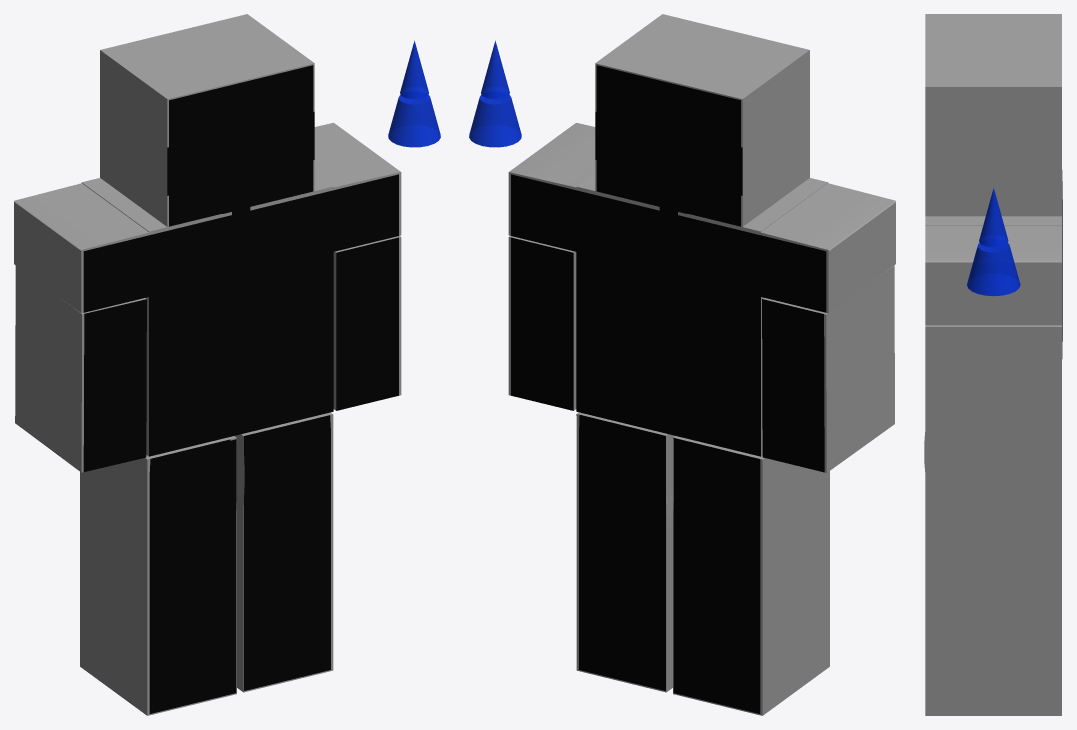
Rendered from Personaje.fbx.
3 renders of one model, left to right at view 1: azimuth 30°, elevation 25°; view 2: azimuth 150°, elevation 25°; view 3: azimuth 270°, elevation 25°, orthographic.
Visible parts, largest first — view 1: Torzo, Pierna_Izq, Pierna_Der, Brazo_Izq, Brazo_Der, Conito; view 2: Torzo, Pierna_Izq, Pierna_Der, Brazo_Izq, Brazo_Der, Conito; view 3: Torzo, Pierna_Der, Brazo_Der, Conito.
Part boxes in pixels (<box>): Torzo: <box>14,14,401,456</box>; Pierna_Izq: <box>80,436,236,715</box>; Pierna_Der: <box>235,412,333,692</box>; Brazo_Izq: <box>15,265,146,472</box>; Brazo_Der: <box>333,236,401,410</box>; Conito: <box>388,40,440,147</box>; Torzo: <box>508,14,895,456</box>; Pierna_Izq: <box>673,436,829,715</box>; Pierna_Der: <box>576,412,674,692</box>; Brazo_Izq: <box>762,265,894,472</box>; Brazo_Der: <box>508,236,576,410</box>; Conito: <box>469,40,521,147</box>; Torzo: <box>925,14,1061,325</box>; Pierna_Der: <box>924,432,1061,715</box>; Brazo_Der: <box>925,325,1061,487</box>; Conito: <box>967,188,1020,296</box>.
Bounding box in the file's own units: 16.97 × 25.46 × 5.15.
